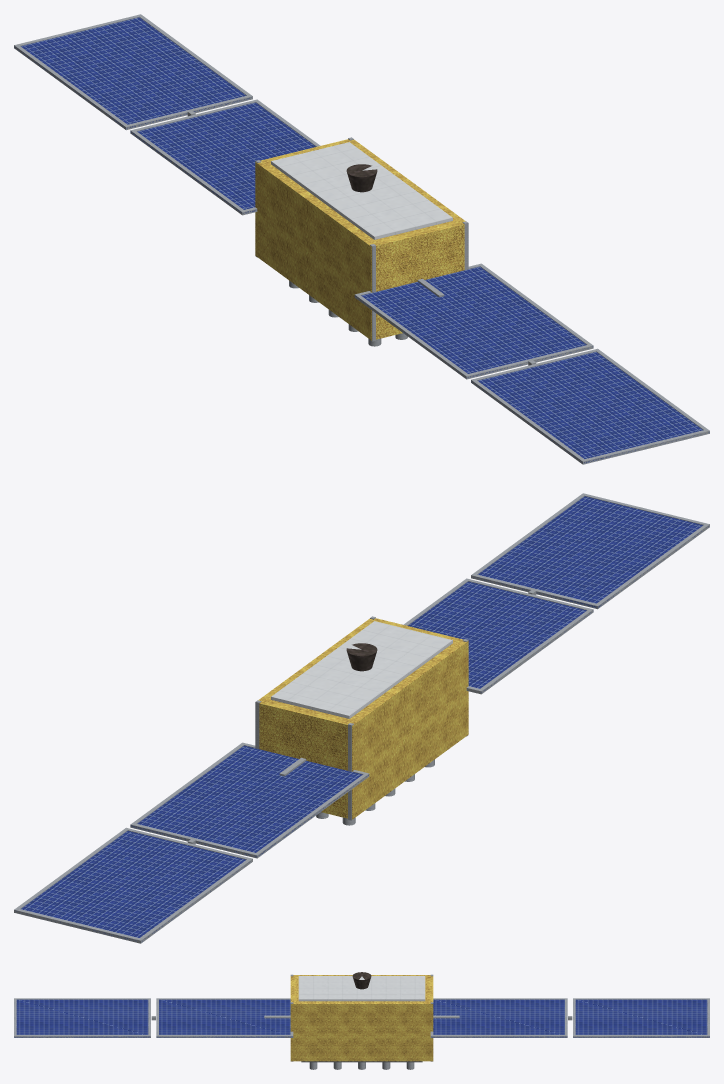
The model's file is navsat.glb.
The picture shows the model from 3 angles, top to bottom: view 1: azimuth 30°, elevation 25°; view 2: azimuth 150°, elevation 25°; view 3: azimuth 270°, elevation 25°; orthographic projection. The views are drawn at different scales.
Size of the model in its own units: 1.7 by 1.76 by 13.2.
6 materials, 6 textured.
